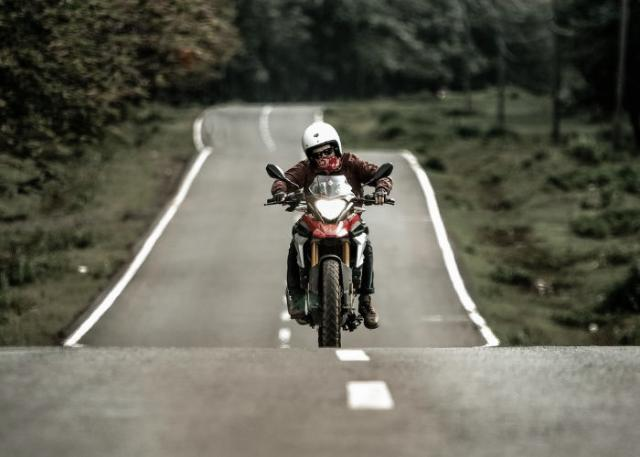helm: (303, 119, 346, 173)
motor: (255, 161, 398, 351)
